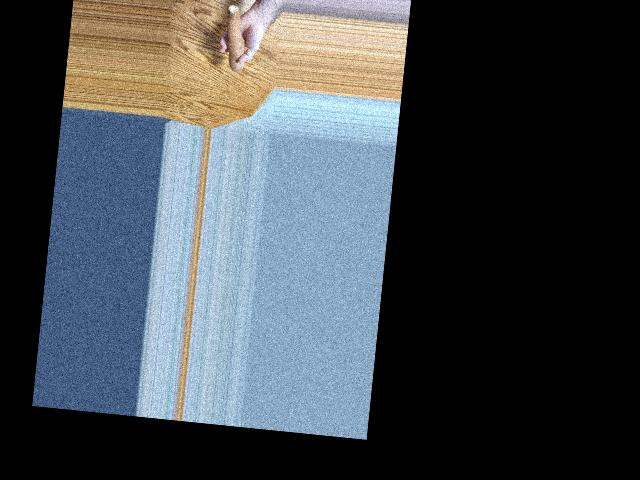sweet_potato: (224, 6, 249, 71)
